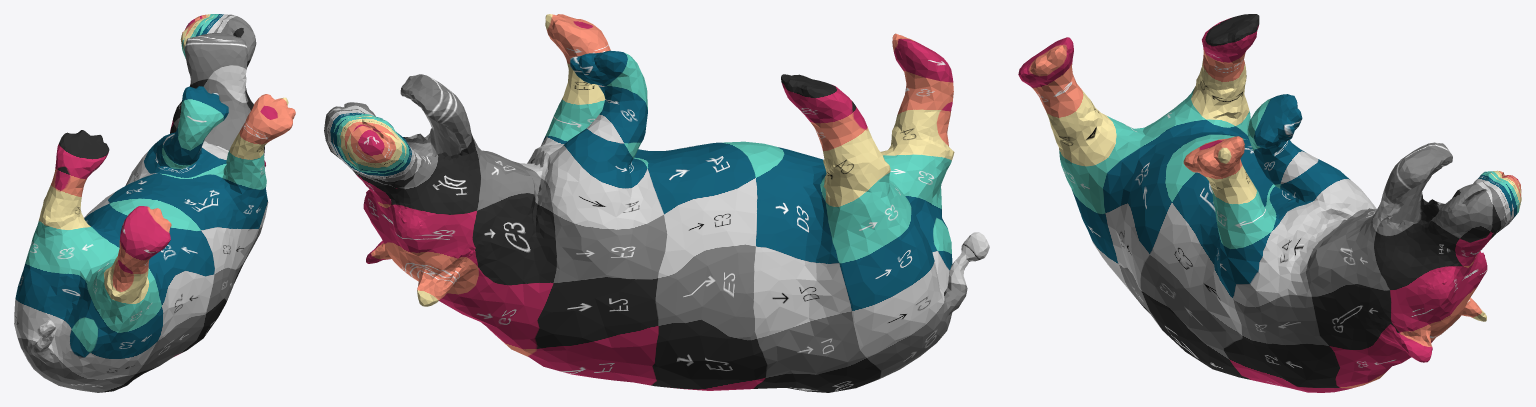
File: wolf_01-hippo_06.obj
3 views of the same model, side by side, from view 1: azimuth 30°, elevation 25°; view 2: azimuth 150°, elevation 25°; view 3: azimuth 270°, elevation 25° (orthographic). The views are drawn at different scales.
Visible parts, largest first — view 1: wolf_01-hippo_06_export; view 2: wolf_01-hippo_06_export; view 3: wolf_01-hippo_06_export.
Boxes of the visible parts, x1=… form: wolf_01-hippo_06_export: x1=14, y1=14, x2=295, y2=392; wolf_01-hippo_06_export: x1=324, y1=14, x2=989, y2=392; wolf_01-hippo_06_export: x1=1018, y1=14, x2=1521, y2=392.
Size of the model in its own units: 0.7416 by 0.49 by 0.7229.
